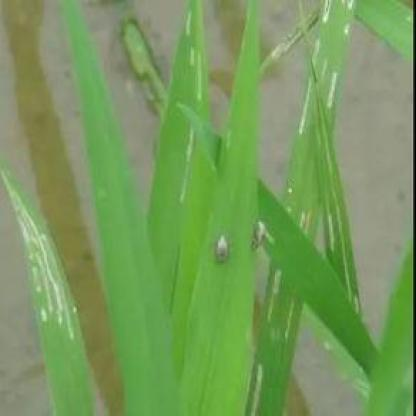rice-bug: (249, 217, 268, 252), (214, 232, 232, 262)
